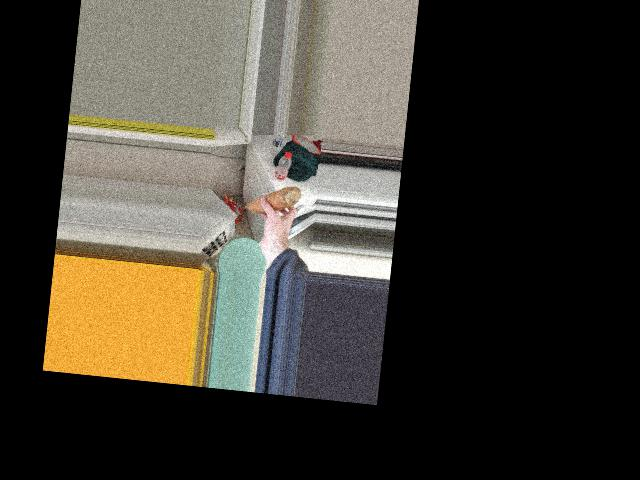sweet_potato: (247, 180, 299, 222)
